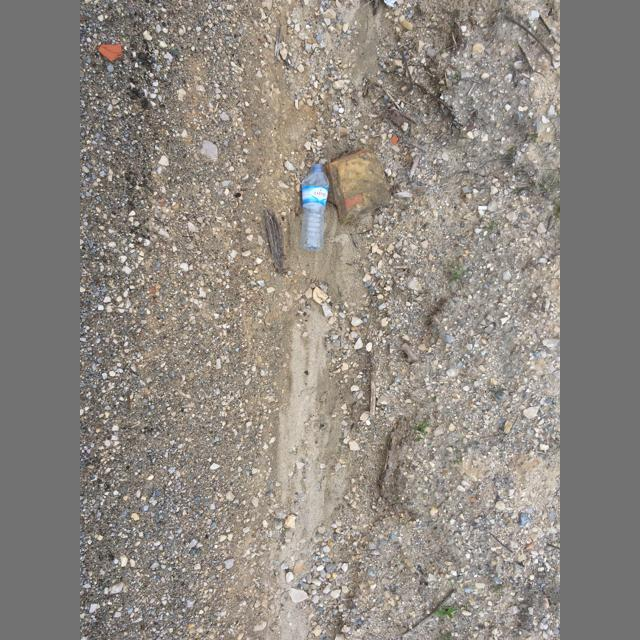litter: (300, 164, 329, 251)
